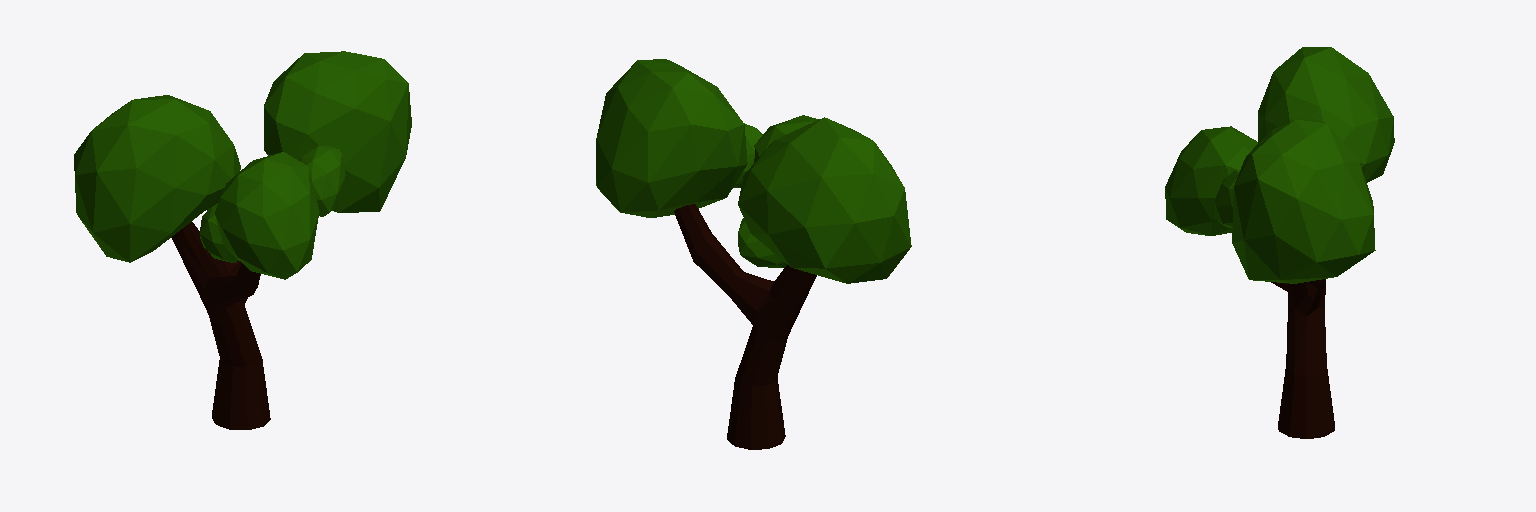
Rendered from tree_1.obj.
3 renders of one model, left to right at view 1: azimuth 30°, elevation 25°; view 2: azimuth 150°, elevation 25°; view 3: azimuth 270°, elevation 25°, orthographic.
Visible parts, largest first — view 1: tree_1; view 2: tree_1; view 3: tree_1.
Boxes of the visible parts, x1=… form: tree_1: x1=74, y1=51, x2=411, y2=429; tree_1: x1=596, y1=59, x2=911, y2=449; tree_1: x1=1165, y1=47, x2=1394, y2=438.
Bounding box in the file's own units: 6.73 × 7.18 × 4.35.